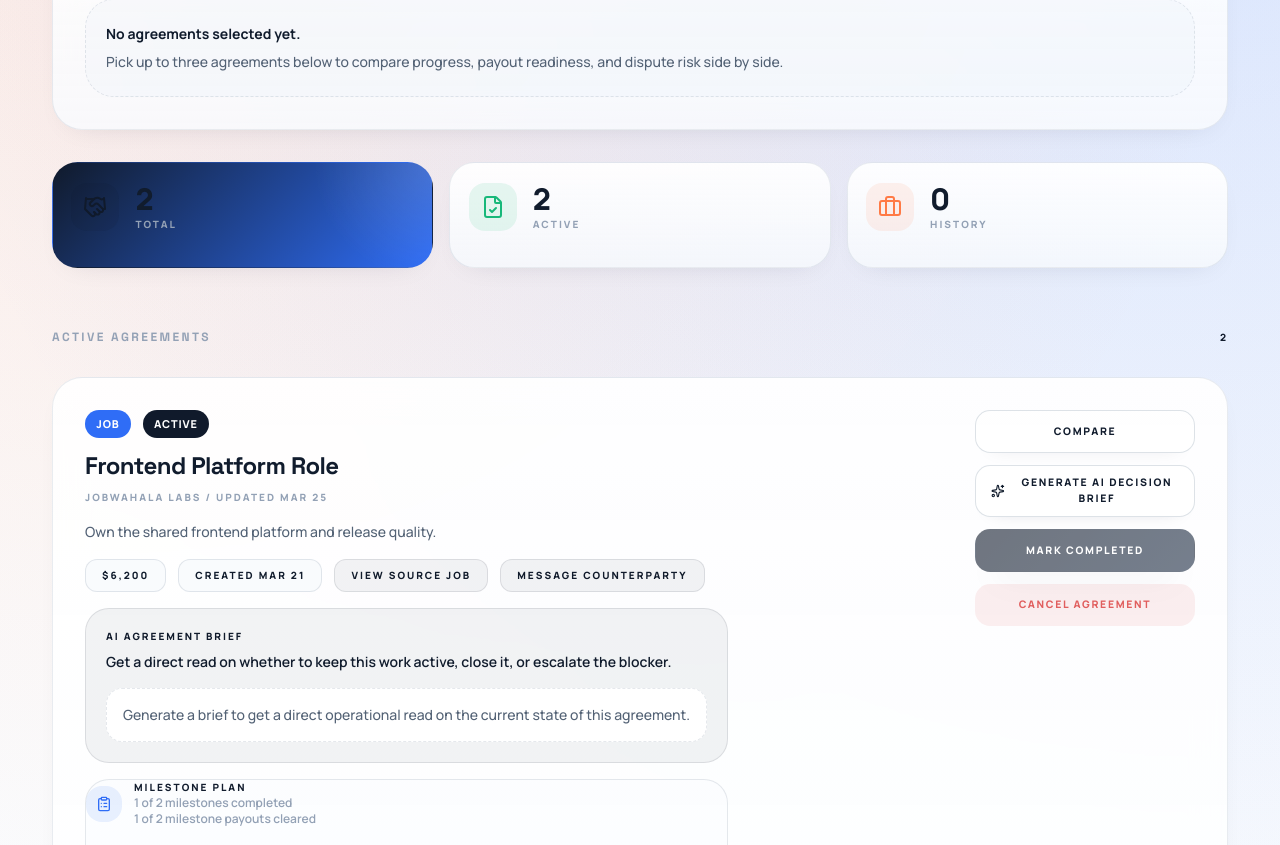
Test: Agreements lifecycle flow › compares selected agreements and renders the AI comparison brief
(page scrolled)
Expected: the heading "Frontend Platform Role" is shown, [85,450,339,480]
Click the button with aria-label "Compare Frontend Platform Role" at (1085, 432), box [975,410,1195,453]
(page scrolled)
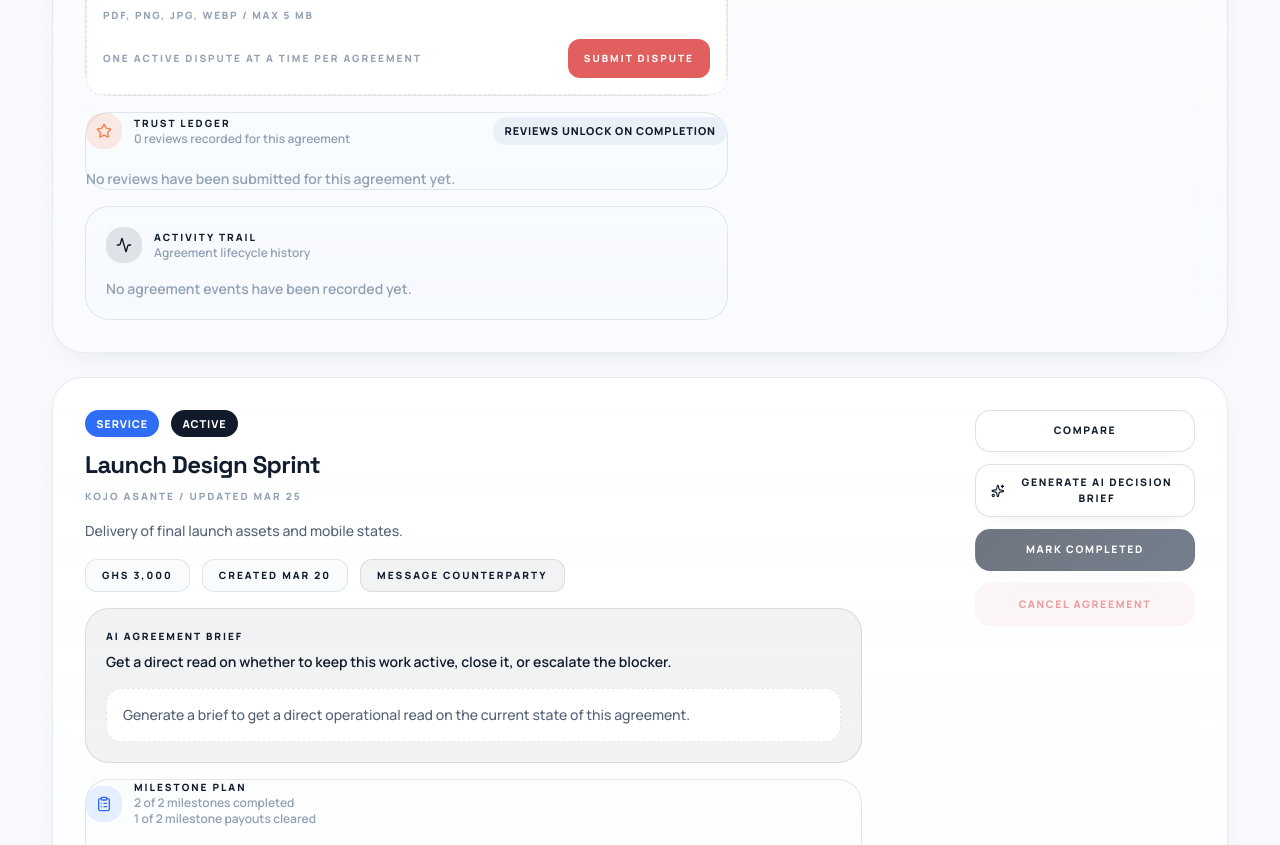
Click the button with aria-label "Compare Launch Design Sprint" at (1085, 431), box [975,410,1195,452]
(page scrolled)
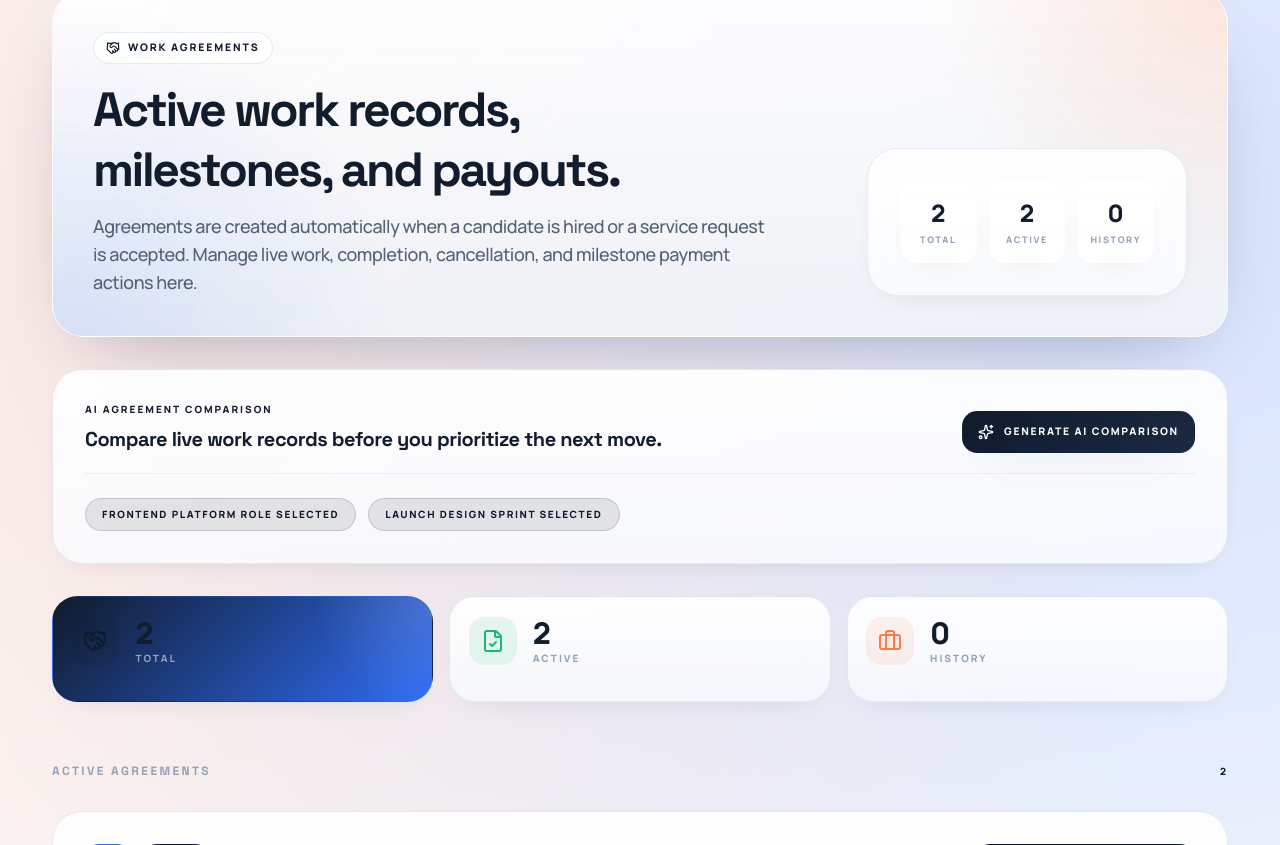
Click the button "Generate AI Comparison" at (1078, 432), box [962,411,1195,453]
(page scrolled)
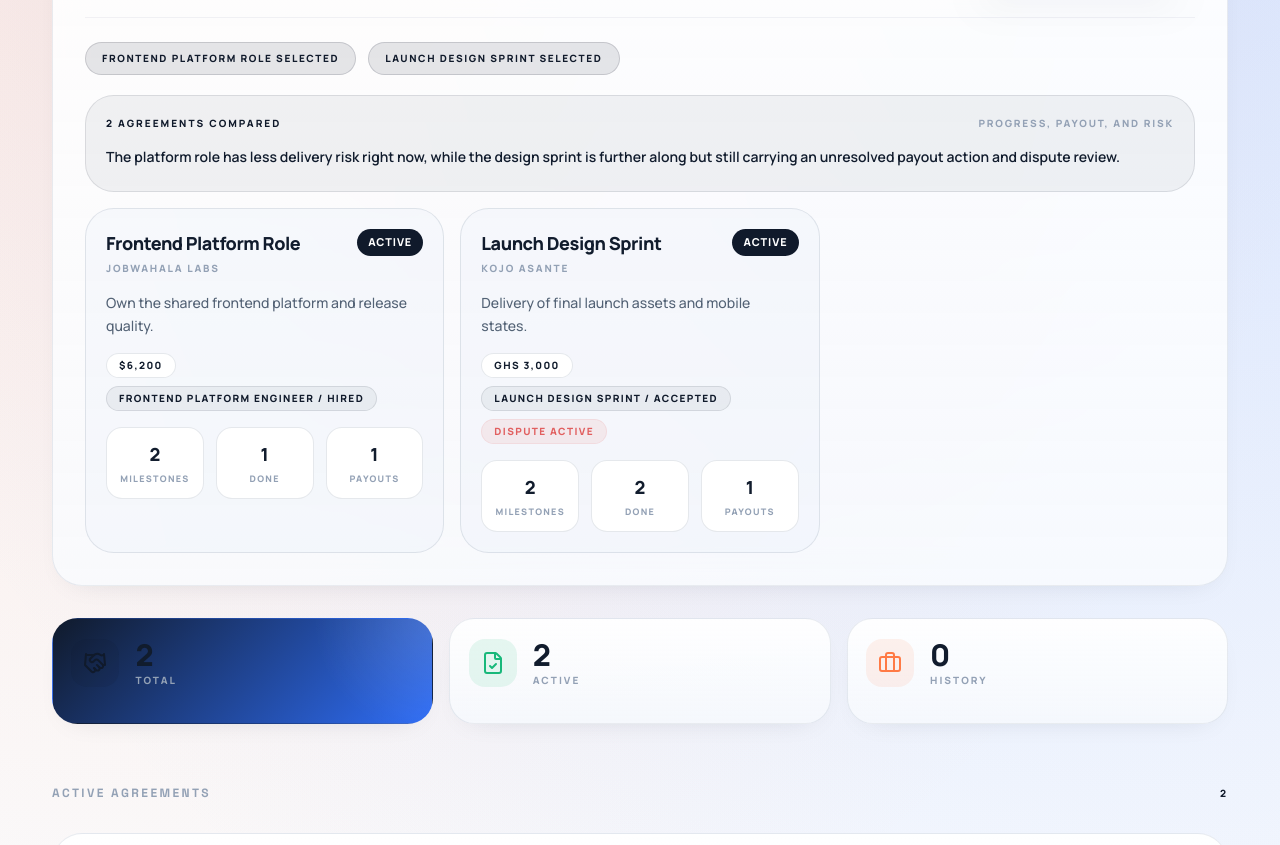
Expected: the text "The platform role has less delivery risk right now, while the design sprint is further along but still carrying an unres" is shown, [106,147,1120,166]
Expected: the text "2 agreements compared" is shown, [106,116,281,131]
Expected: the text "JobWahala Labs" is shown, [106,261,220,275]
